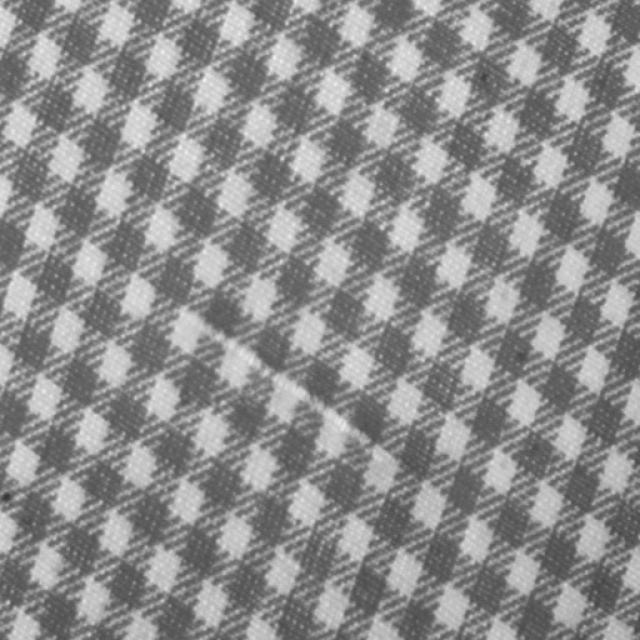Thread-Defect: (178, 298, 380, 452)
